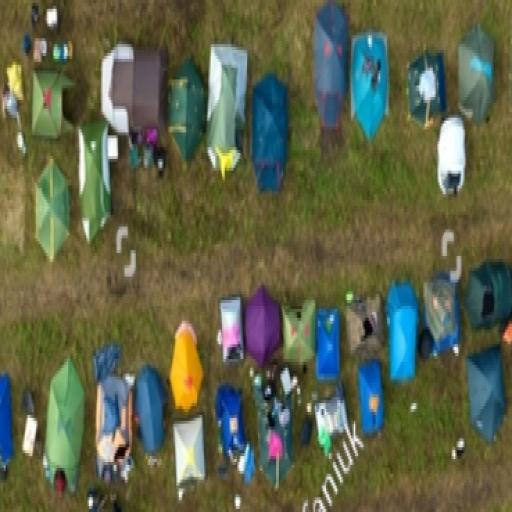tent: (251, 58, 294, 200), (313, 12, 346, 123), (216, 386, 248, 462), (315, 302, 340, 391), (357, 362, 385, 437)
